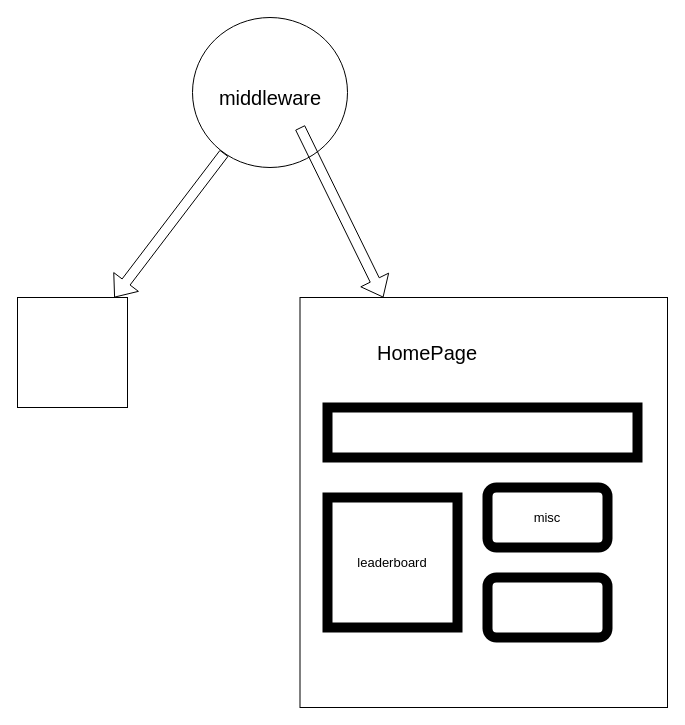
Some shapes in this 685 by 725 pixel diagram are drawn without their labels. The shapes that lost their labels are listed below. From the top down, each one's centre as x and y in pixels, then its label:
(x=72, y=352): auth
(x=482, y=432): navbar
